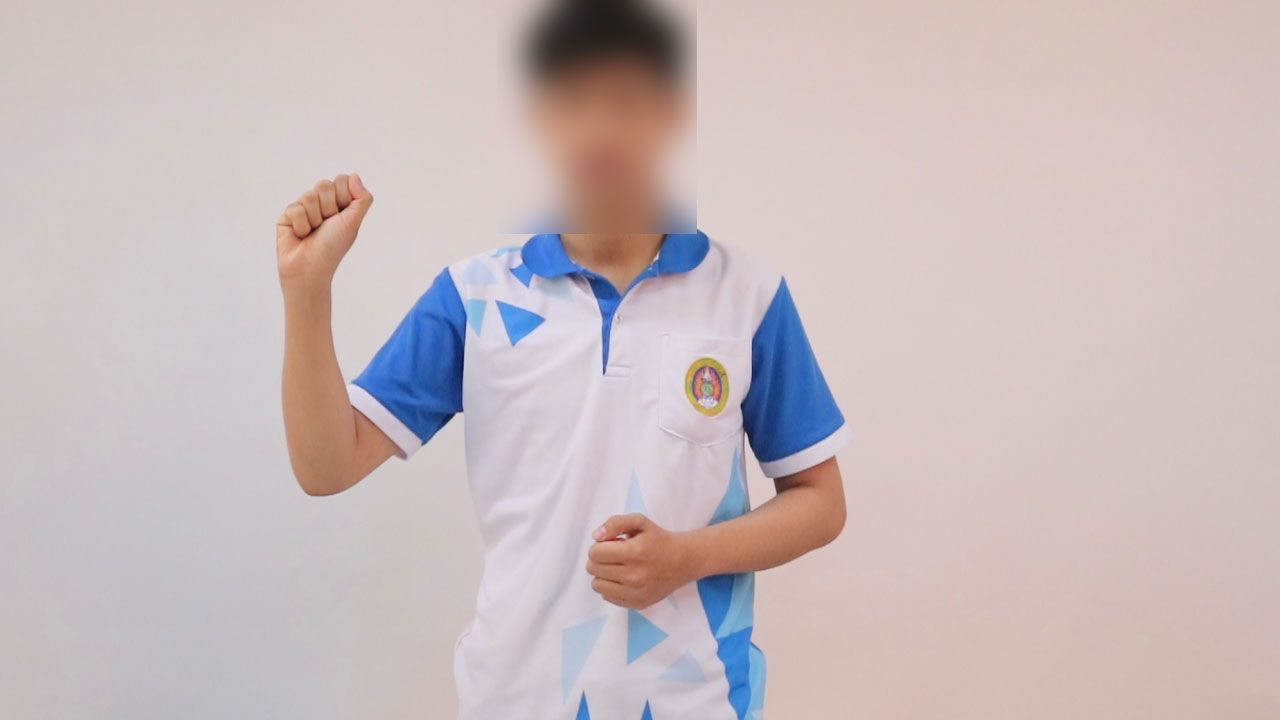sor: (247, 155, 385, 293)
